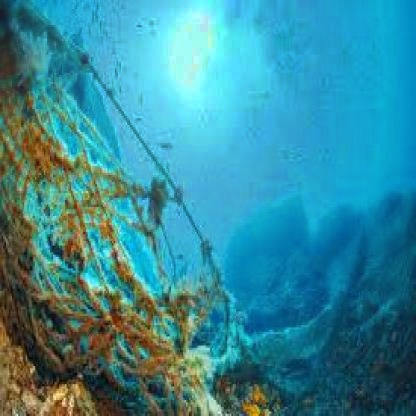net: (1, 7, 218, 416)
